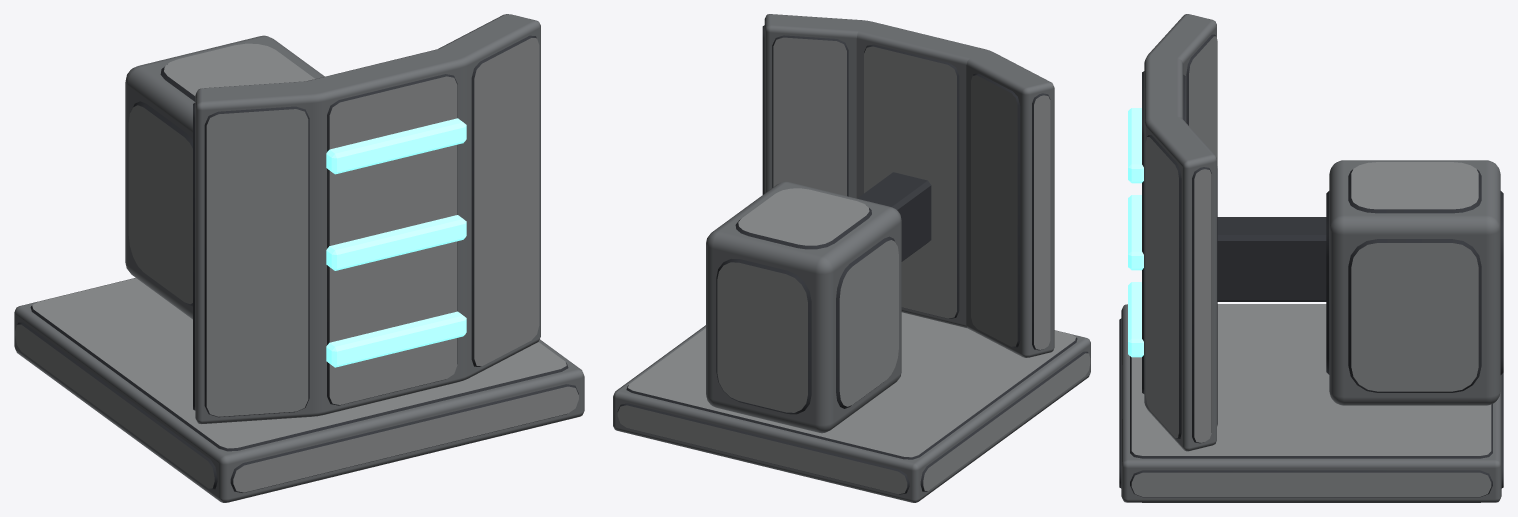
Rendered from R4X_DirectionalShield.glb.
3 renders of one model, left to right at view 1: azimuth 30°, elevation 25°; view 2: azimuth 150°, elevation 25°; view 3: azimuth 270°, elevation 25°, orthographic. The views are drawn at different scales.
Visible parts, largest first — view 1: R4X_DirectionalShield_Body; view 2: R4X_DirectionalShield_Body; view 3: R4X_DirectionalShield_Body.
Boxes of the visible parts, x1=… form: R4X_DirectionalShield_Body: x1=14, y1=14, x2=584, y2=502; R4X_DirectionalShield_Body: x1=613, y1=14, x2=1090, y2=502; R4X_DirectionalShield_Body: x1=1119, y1=14, x2=1503, y2=502.
Bounding box in the file's own units: 0.52 × 0.507 × 0.52.
